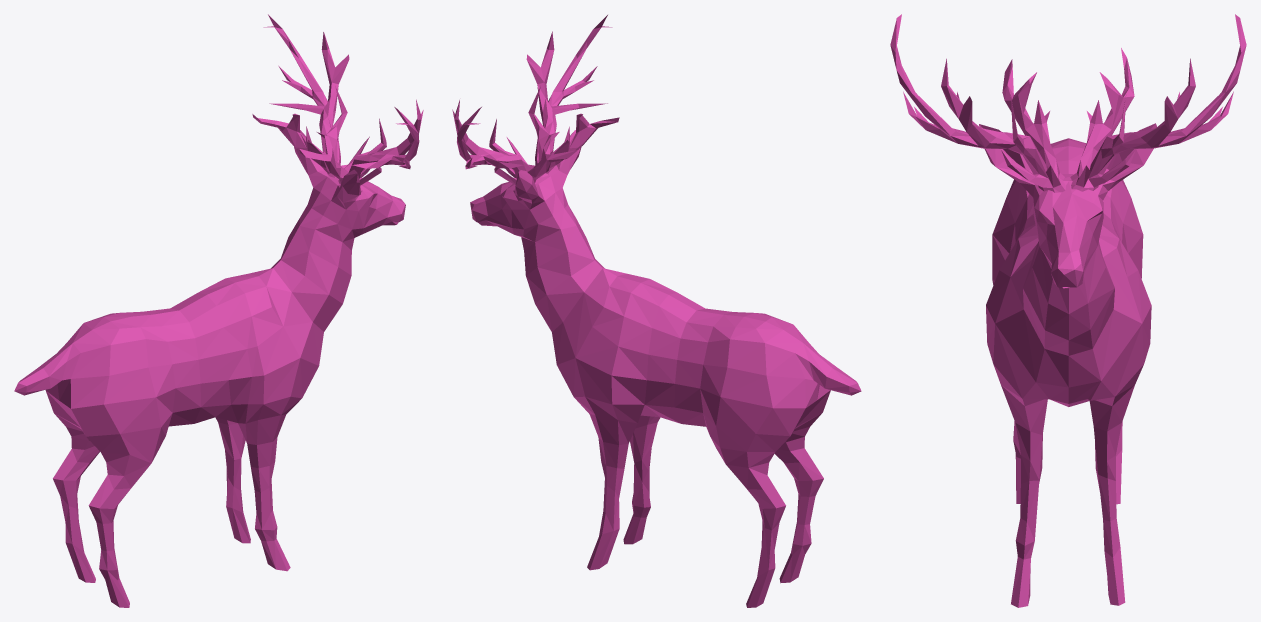
The model's file is animal03.FBX.
3 views of the same model, side by side, from view 1: azimuth 30°, elevation 25°; view 2: azimuth 150°, elevation 25°; view 3: azimuth 270°, elevation 25° (orthographic). The views are drawn at different scales.
Parts seen in each view (by area): view 1: Deer; view 2: Deer; view 3: Deer.
Part boxes in pixels (x1,y1,x2,y2): Deer: (14, 14, 423, 607); Deer: (452, 15, 861, 607); Deer: (890, 14, 1246, 607).
Size of the model in its own units: 79.68 by 93.7 by 47.79.
